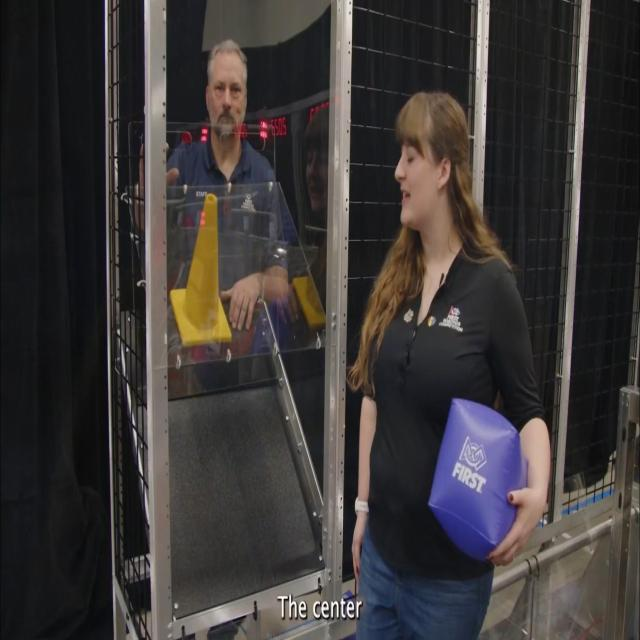frc_cone: (169, 193, 232, 347)
frc_cube: (428, 399, 522, 558)
